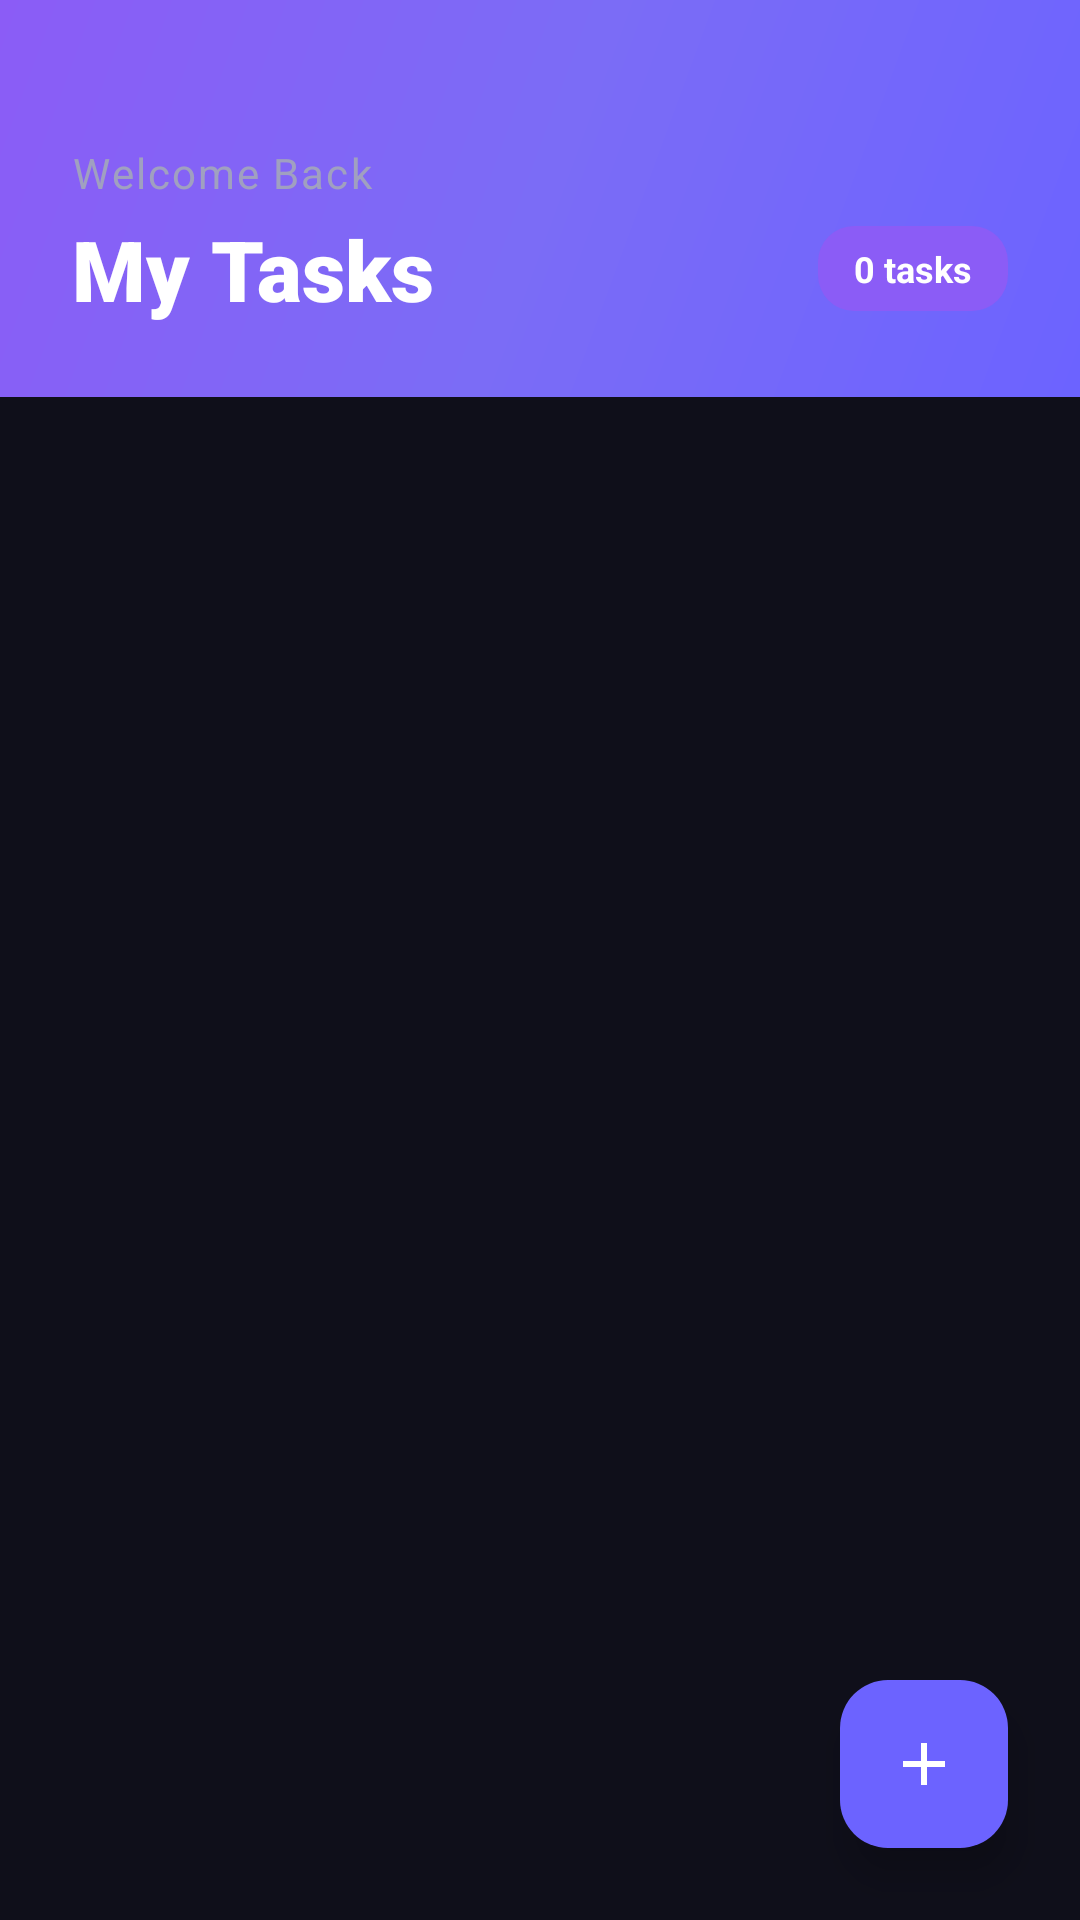

Named icons in this screenshot (1080 x 1920) and their bounding boxes, box(x1, y1, x2, y2):
Add Task: box(840, 1680, 1008, 1848)
